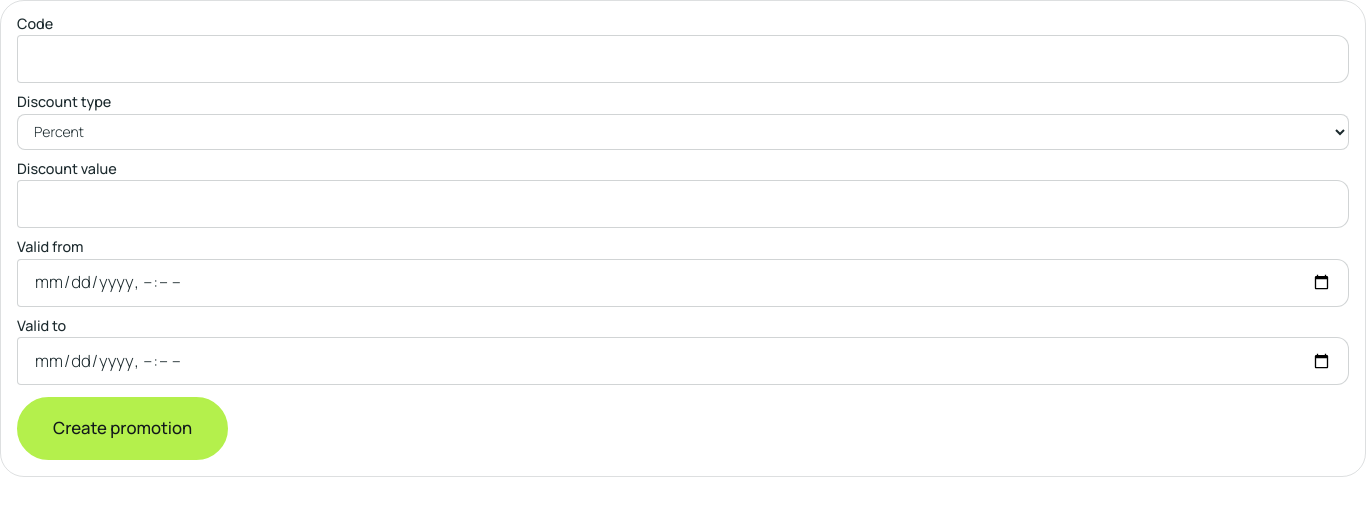
Test: PromotionForm › rejects a percent of 0 before submit
Step 1. Type "BACK2026" into the field labelled "Code" → (683, 59), box [17,35,1349,83]
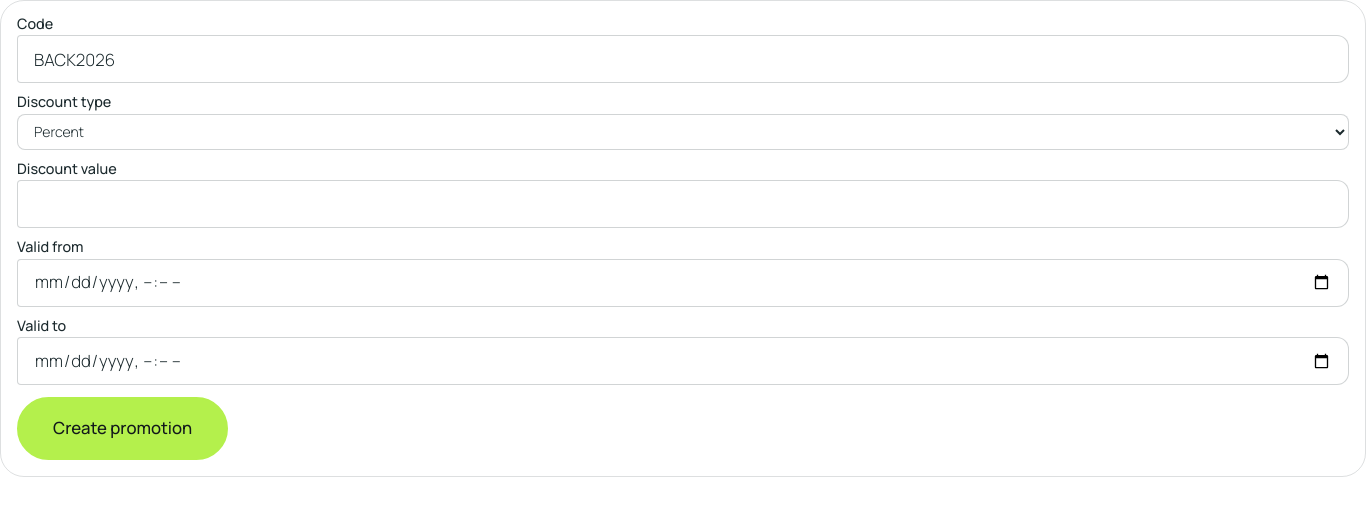
Step 2. Type "0" into the field labelled "Discount value" → (683, 204), box [17,180,1349,228]
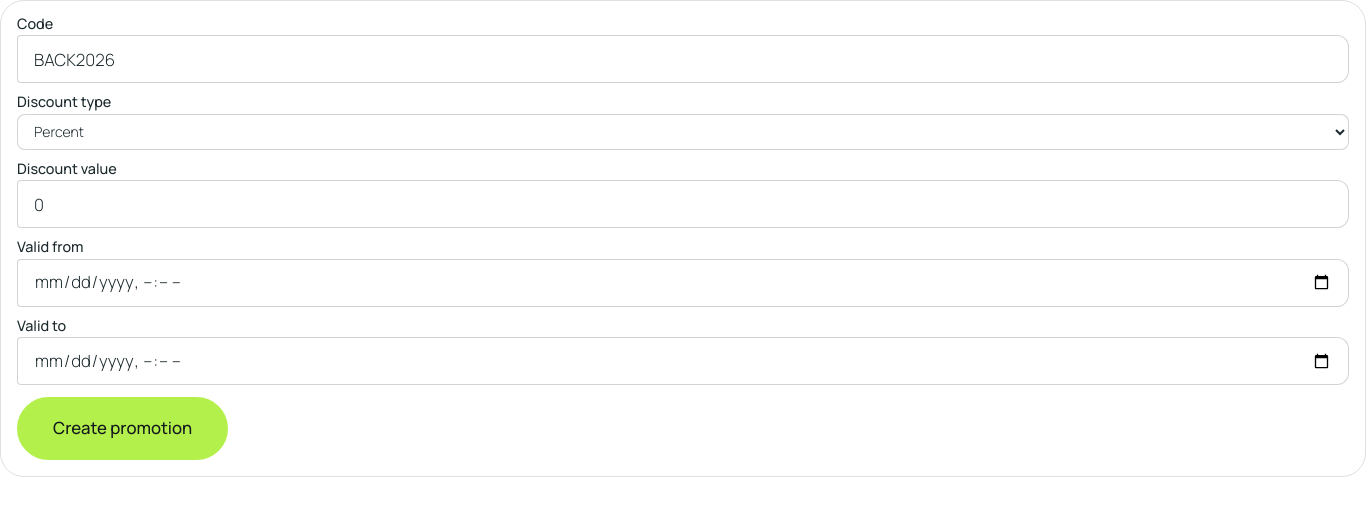
Step 3. Type "2026-10-01T00:00" into the field labelled "Valid from" → (683, 283), box [17,259,1349,307]
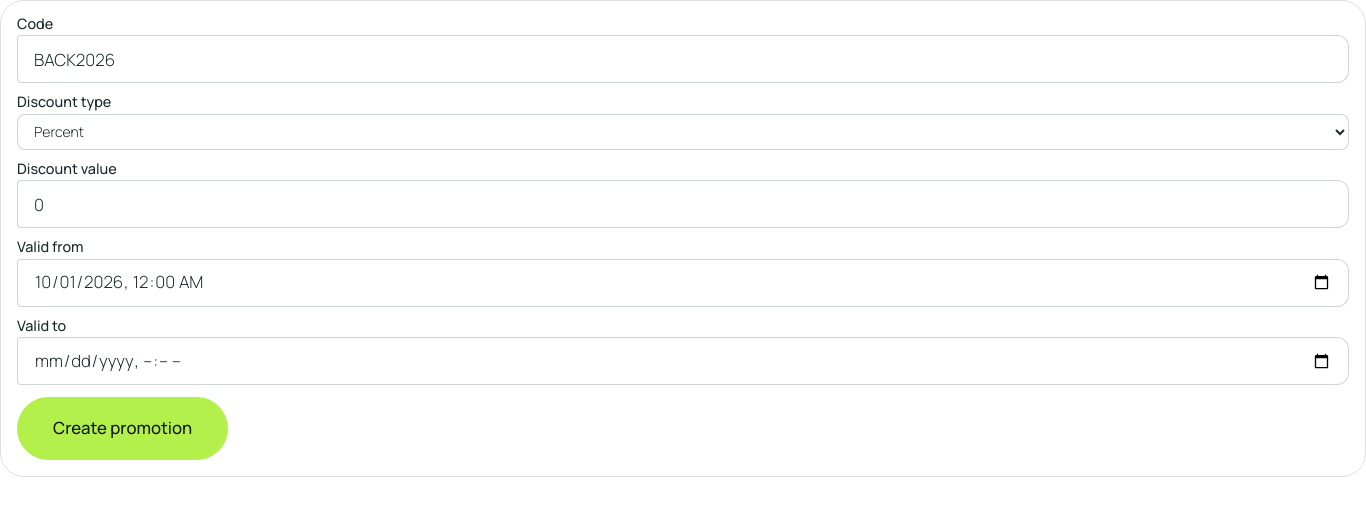
Step 4. Type "2026-10-31T00:00" into the field labelled "Valid to" → (683, 361), box [17,337,1349,385]
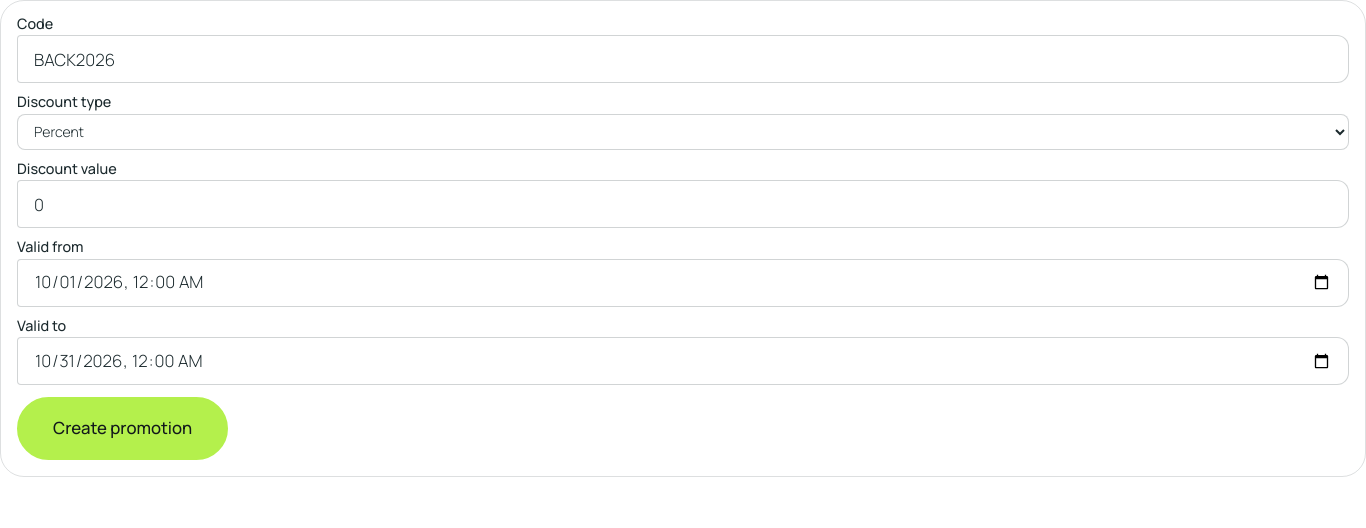
Step 5. Click the button "Create promotion" → (123, 428), box [17,397,228,460]
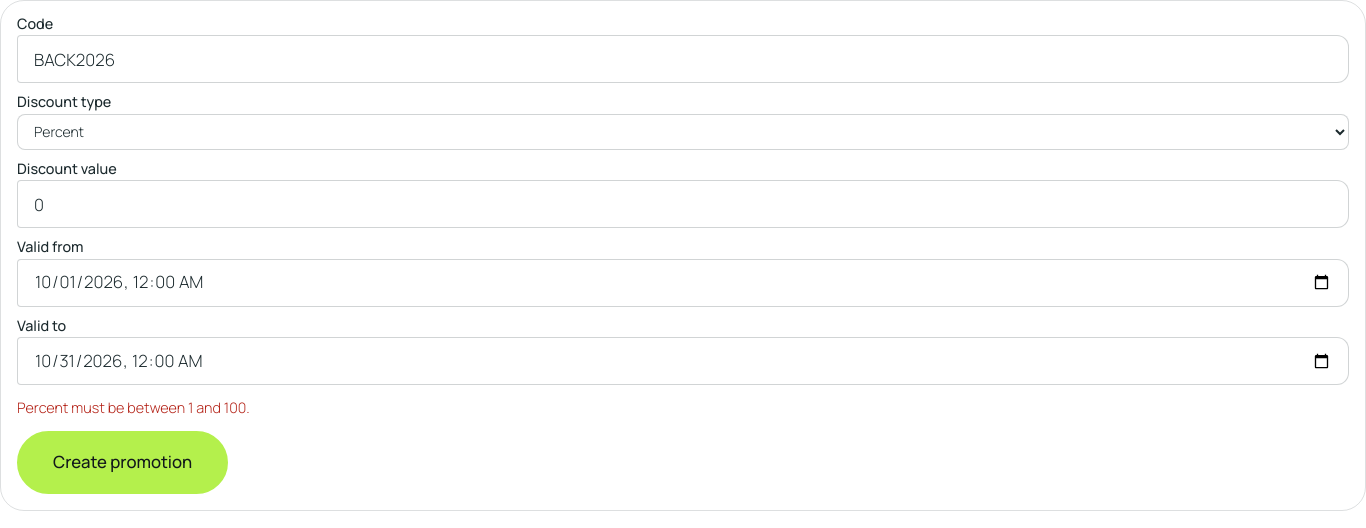
Now the message reads "Percent must be between 1 and 100.", box [17,398,250,417]
